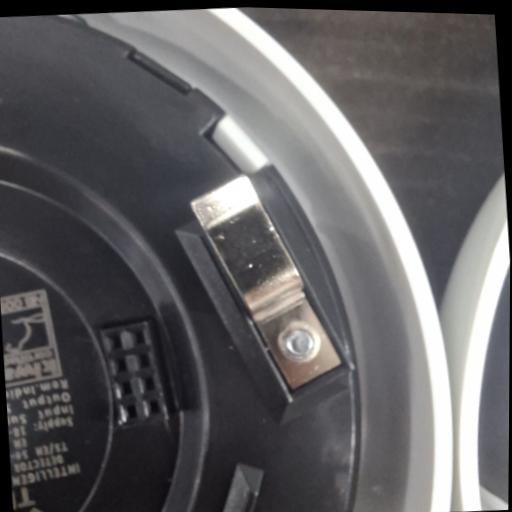yaysiz: (187, 170, 347, 397)
